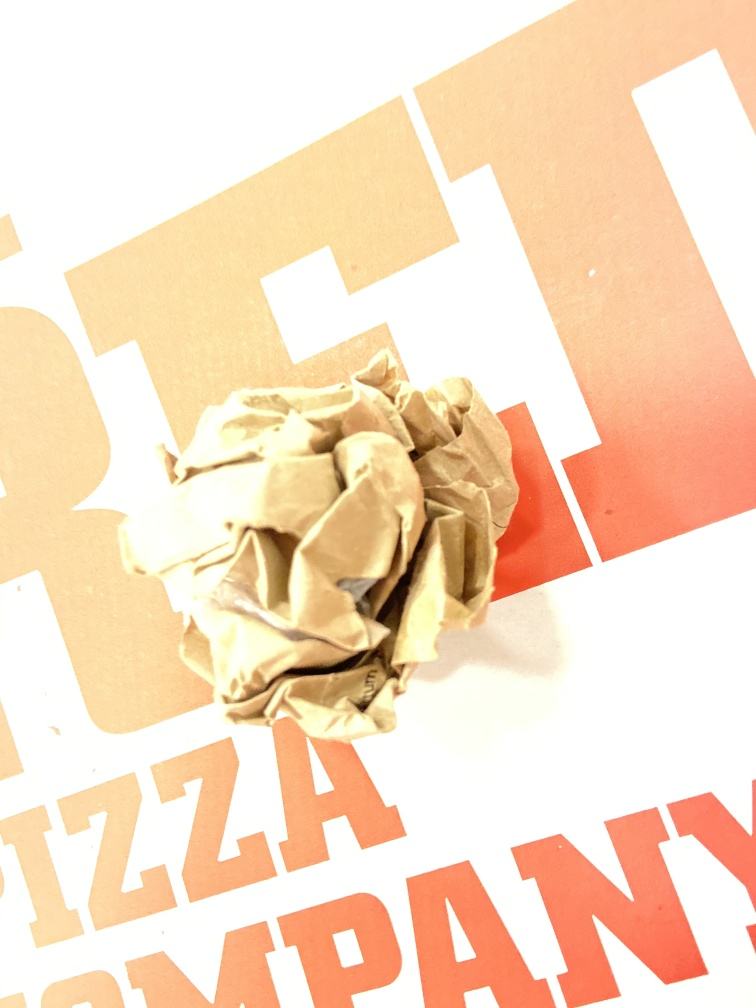paper_brown: (116, 337, 526, 740)
